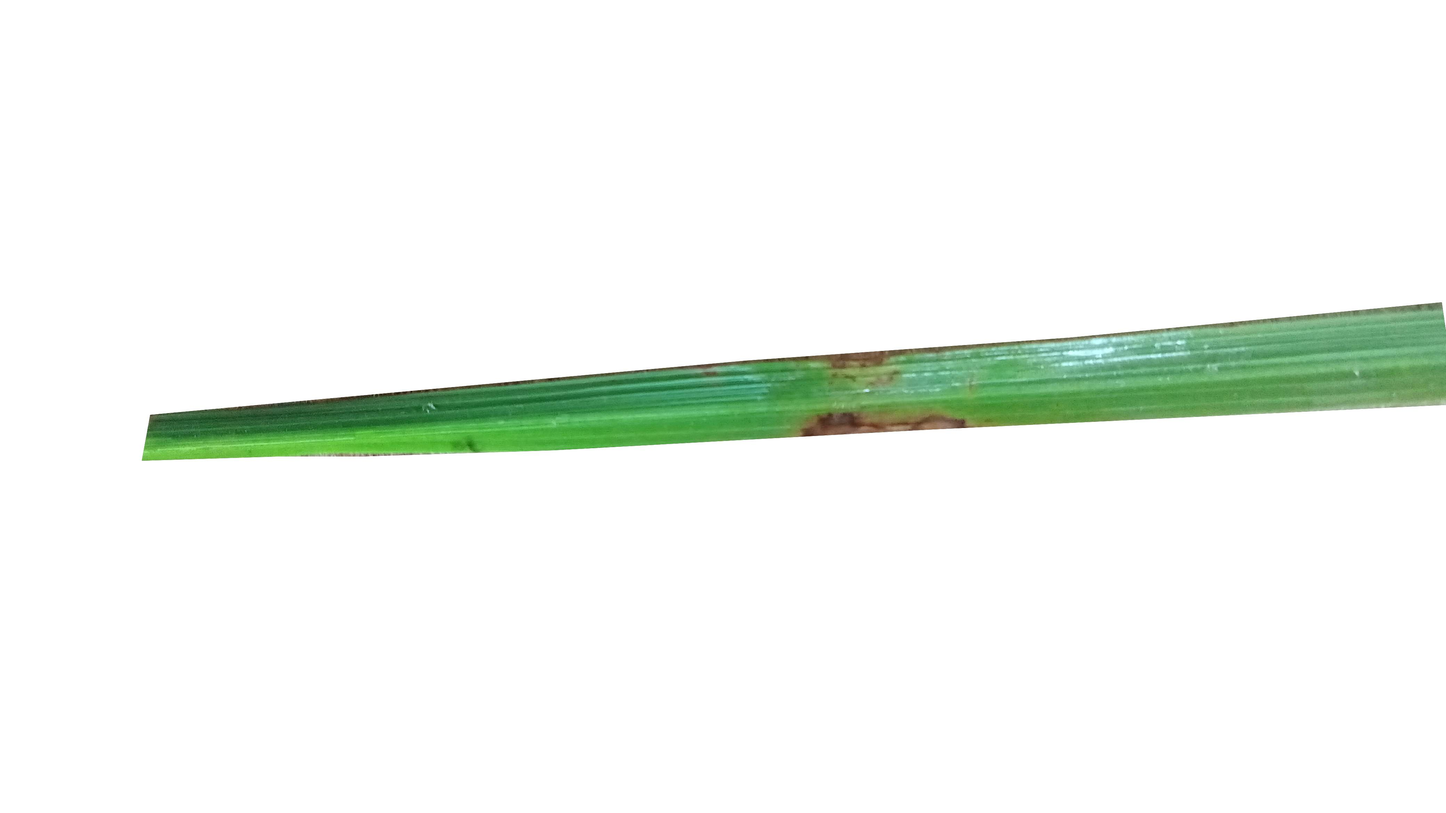Rice blast: (805, 393, 980, 436)
